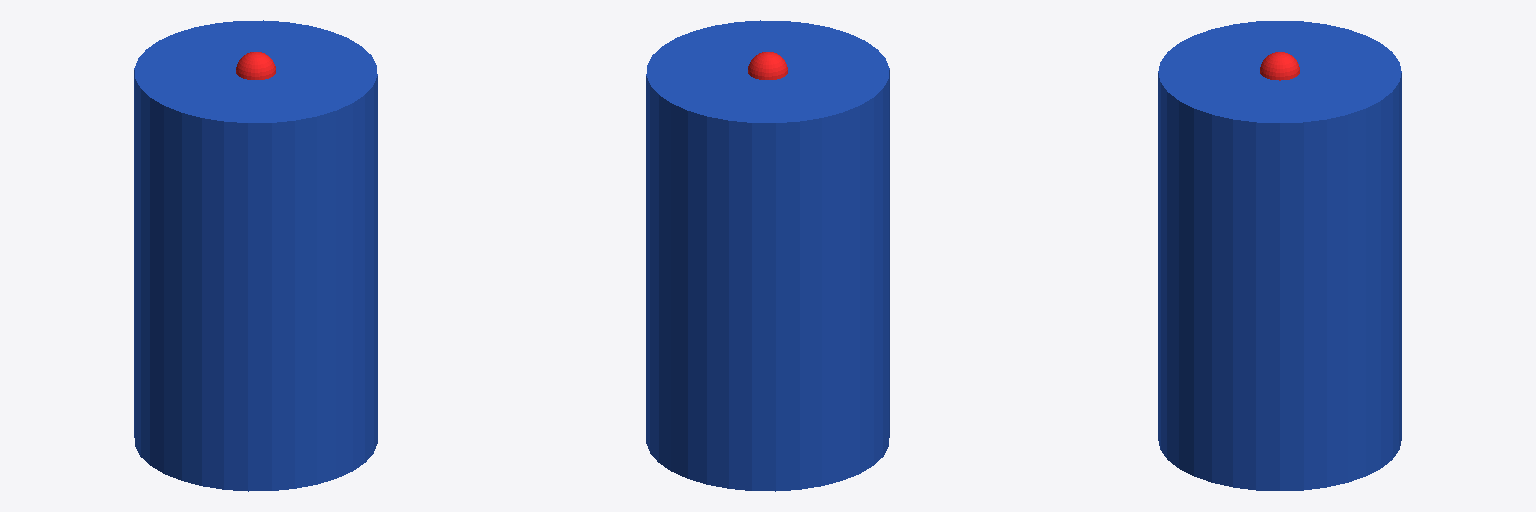
URDF robot description (extruder_tool):
<?xml version="1.0"?>
<!--
  Minimal extruder tool URDF for pybullet_industrial.
  Represents a generic additive manufacturing extruder (WAAM, pellet, FDM).
  Has base_link + tcp link connected by a fixed joint.
  The tcp link is at the nozzle tip where material is deposited.
-->
<robot name="extruder_tool">
  <link name="base_link">
    <visual>
      <origin xyz="0 0 0.05" rpy="0 0 0" />
      <geometry>
        <cylinder radius="0.03" length="0.10" />
      </geometry>
      <material name="tool_blue">
        <color rgba="0.2 0.4 0.8 1.0"/>
      </material>
    </visual>
    <collision>
      <origin xyz="0 0 0.05" rpy="0 0 0" />
      <geometry>
        <cylinder radius="0.03" length="0.10" />
      </geometry>
    </collision>
    <inertial>
      <mass value="1.0"/>
      <origin xyz="0 0 0.05" rpy="0 0 0"/>
      <inertia ixx="0.001" ixy="0" ixz="0" iyy="0.001" iyz="0" izz="0.0005"/>
    </inertial>
  </link>

  <link name="tcp">
    <visual>
      <origin xyz="0 0 0" rpy="0 0 0" />
      <geometry>
        <sphere radius="0.005" />
      </geometry>
      <material name="nozzle_red">
        <color rgba="1.0 0.2 0.2 1.0"/>
      </material>
    </visual>
    <inertial>
      <mass value="0.01"/>
      <inertia ixx="0.00001" ixy="0" ixz="0" iyy="0.00001" iyz="0" izz="0.00001"/>
    </inertial>
  </link>

  <joint name="base_to_tcp" type="fixed">
    <origin xyz="0 0 0.1" rpy="0 0 0"/>
    <parent link="base_link"/>
    <child link="tcp"/>
  </joint>
</robot>

--- Render facts (derived) ---
The picture shows the robot from 3 angles, left to right: view 1: azimuth 30°, elevation 25°; view 2: azimuth 150°, elevation 25°; view 3: azimuth 270°, elevation 25°; orthographic projection.
Robot: extruder_tool — 2 links, 1 joints (1 fixed); root link base_link; default pose: all joints at 0.
Links seen in each view (by area): view 1: base_link, tcp; view 2: base_link, tcp; view 3: base_link, tcp.
Link boxes in pixels (x1,y1,x2,y2): base_link: (134, 20, 377, 491); tcp: (236, 52, 275, 79); base_link: (646, 20, 889, 491); tcp: (748, 52, 787, 79); base_link: (1158, 21, 1401, 490); tcp: (1260, 52, 1299, 80).
Size in the robot's own frame: 0.06 by 0.06 by 0.105 metres.
Geometry: primitives only (box / cylinder / sphere), no mesh files.